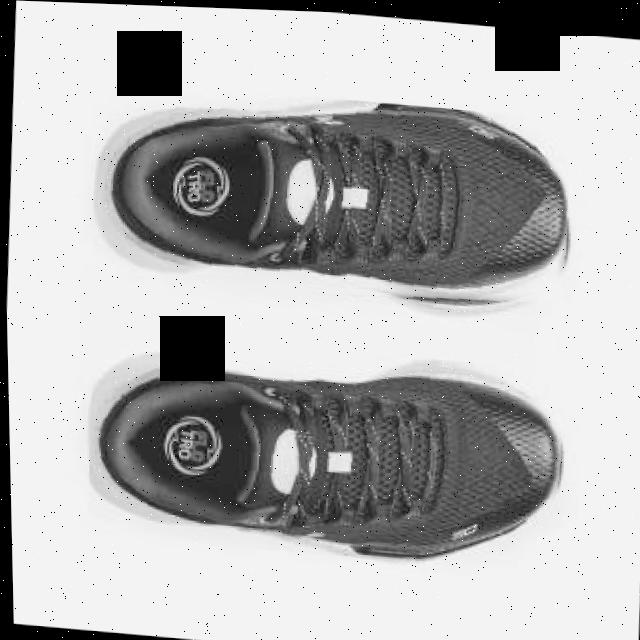shoe: (86, 76, 576, 321), (81, 329, 569, 572)
